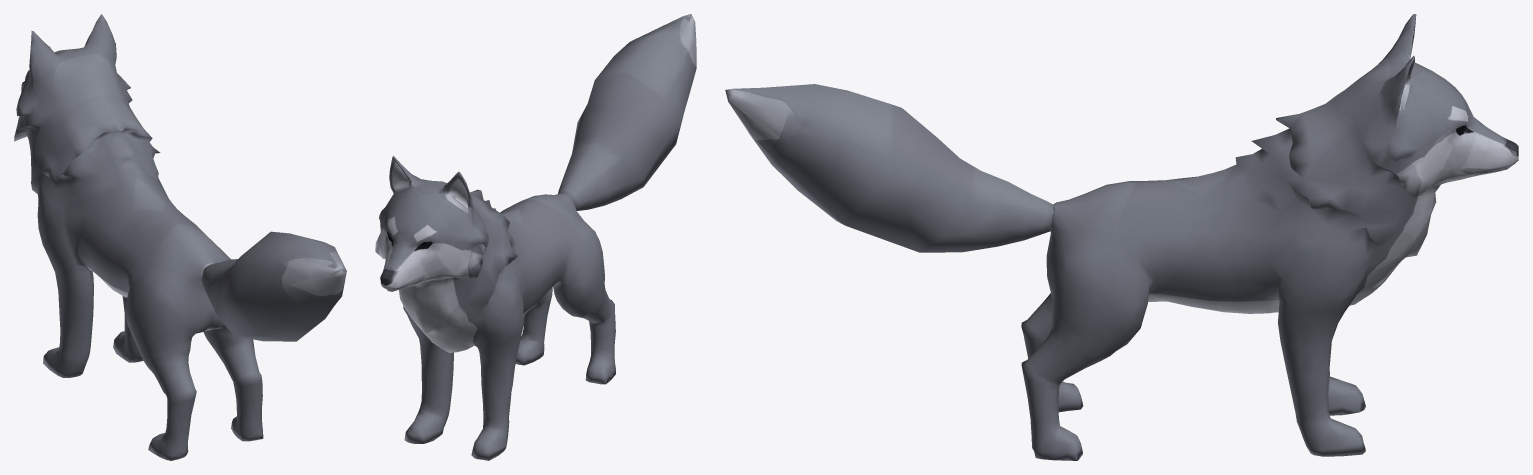
Rendered from wolf.glb.
The picture shows the model from 3 angles, left to right: view 1: azimuth 30°, elevation 25°; view 2: azimuth 150°, elevation 25°; view 3: azimuth 270°, elevation 25°; orthographic projection. The views are drawn at different scales.
Visible parts, largest first — view 1: Part0, Part2, Part1; view 2: Part0, Part1, Part2; view 3: Part0, Part1, Part2.
Boxes of the visible parts, <box> form: Part0: <box>14,14,346,344</box>; Part2: <box>128,324,263,460</box>; Part1: <box>43,268,143,377</box>; Part0: <box>375,14,696,354</box>; Part1: <box>404,287,585,460</box>; Part2: <box>515,273,615,384</box>; Part0: <box>725,14,1518,325</box>; Part1: <box>1120,286,1375,456</box>; Part2: <box>1021,293,1130,460</box>.
Bounding box in the file's own units: 0.4332 × 1.15 × 2.09.
Materials: 1 (1 with a texture image).
